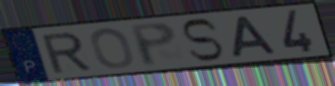4: (280, 8, 315, 55)
A: (231, 15, 280, 59)
O: (88, 26, 136, 70)
P: (127, 20, 179, 68)
R: (39, 30, 94, 75)
S: (179, 17, 226, 63)
